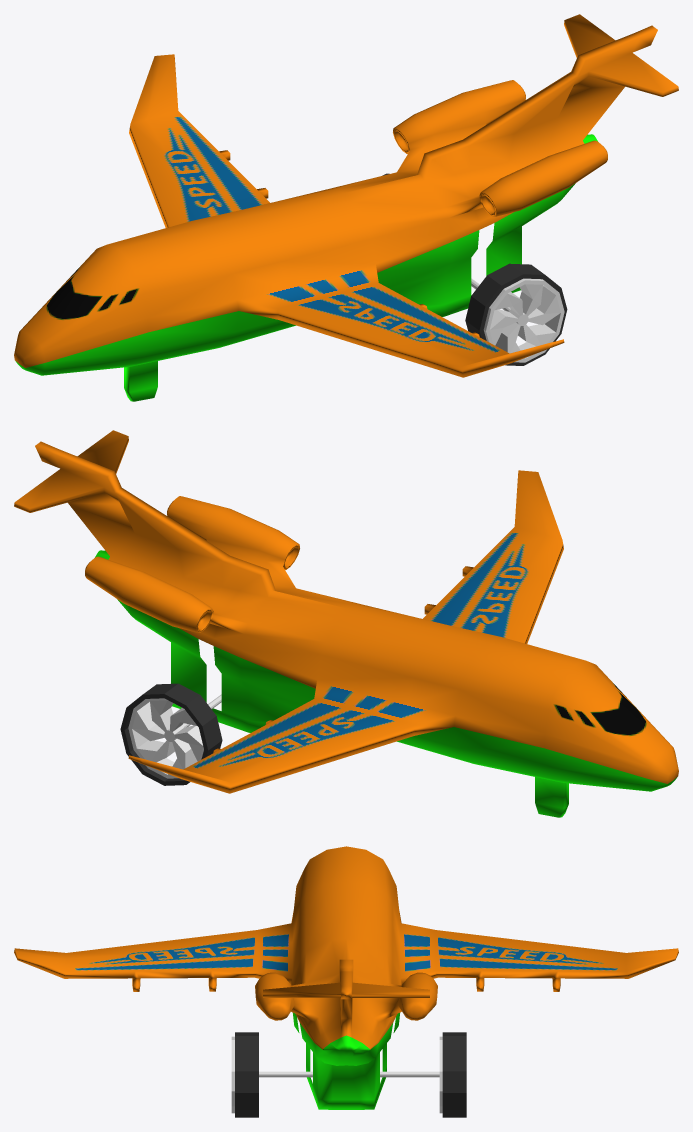
File: boeing6.glb
3 views of the same model, one above another, from view 1: azimuth 30°, elevation 25°; view 2: azimuth 150°, elevation 25°; view 3: azimuth 270°, elevation 25° (orthographic). The views are drawn at different scales.
Visible parts, largest first — view 1: AVIAO, roda, pneu; view 2: AVIAO, roda, pneu; view 3: AVIAO, pneu, roda.
Part boxes in pixels (x1,y1,x2,y2): AVIAO: (14,14,678,401); roda: (471,278,564,362); pneu: (382,173,567,365); AVIAO: (14,430,678,817); roda: (128,694,221,778); pneu: (120,683,222,785); AVIAO: (14,846,678,1109); pneu: (235,1032,466,1117); roda: (231,1036,442,1113).
Size of the model in its own units: 11.48 by 4.25 by 12.32.
3 materials, 1 textured.
